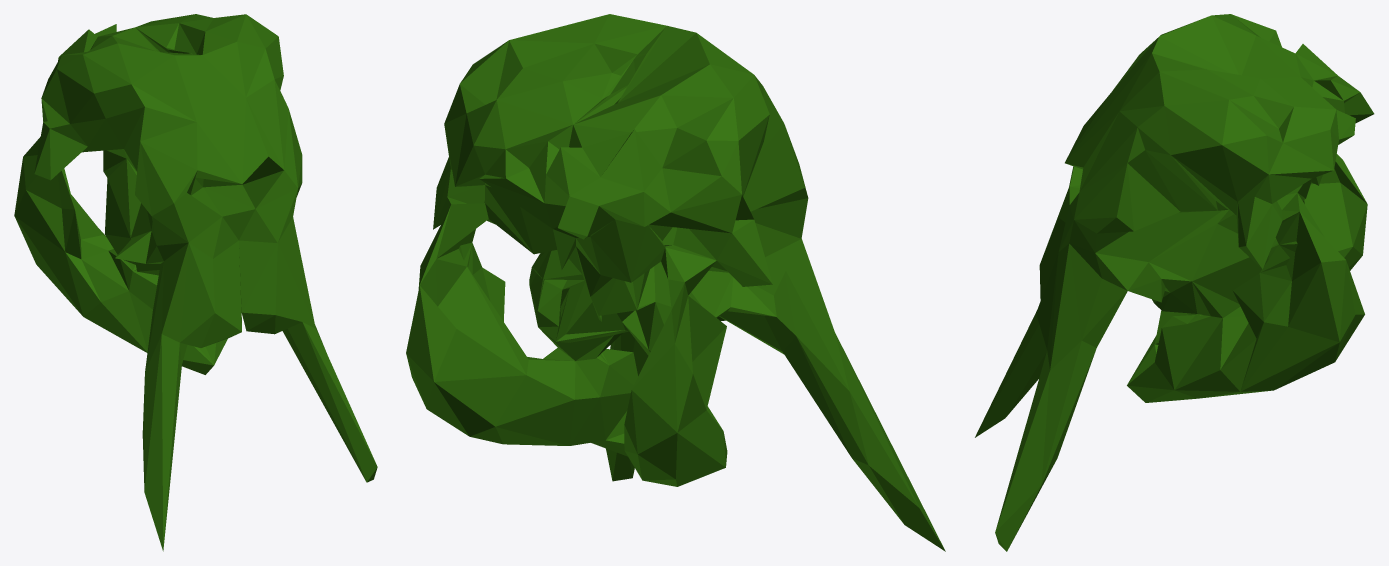
The model's file is SkeletonElephantHead.fbx.
3 views of the same model, side by side, from view 1: azimuth 30°, elevation 25°; view 2: azimuth 150°, elevation 25°; view 3: azimuth 270°, elevation 25° (orthographic). The views are drawn at different scales.
Visible parts, largest first — view 1: SkeletonElephantHead; view 2: SkeletonElephantHead; view 3: SkeletonElephantHead.
Part boxes in pixels (left/top/right/bottom): SkeletonElephantHead: left=14, top=14, right=377, bottom=551; SkeletonElephantHead: left=406, top=14, right=945, bottom=551; SkeletonElephantHead: left=975, top=14, right=1374, bottom=551.
Bounding box in the file's own units: 169 × 274 × 217.
